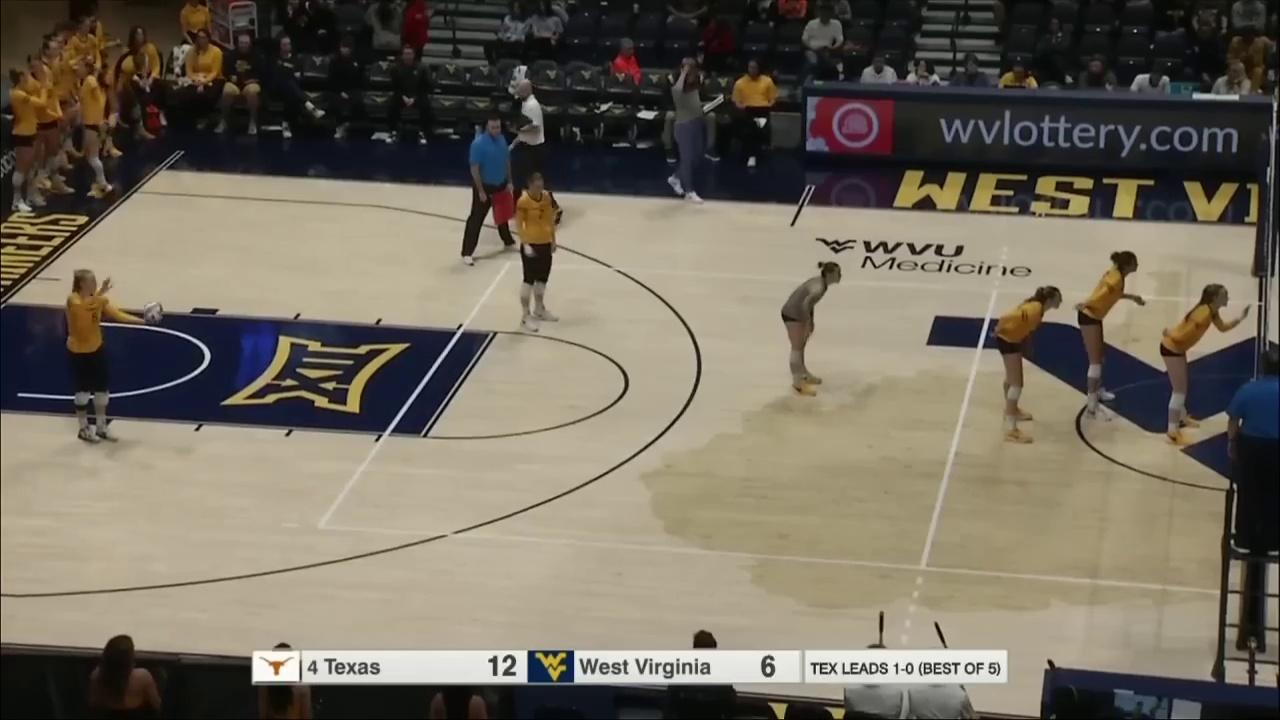player: (67, 269, 145, 444), (1160, 283, 1241, 446), (989, 283, 1062, 444), (1077, 250, 1145, 421), (782, 260, 845, 396), (517, 174, 562, 332)
refree: (1229, 347, 1280, 552), (461, 117, 526, 268)
